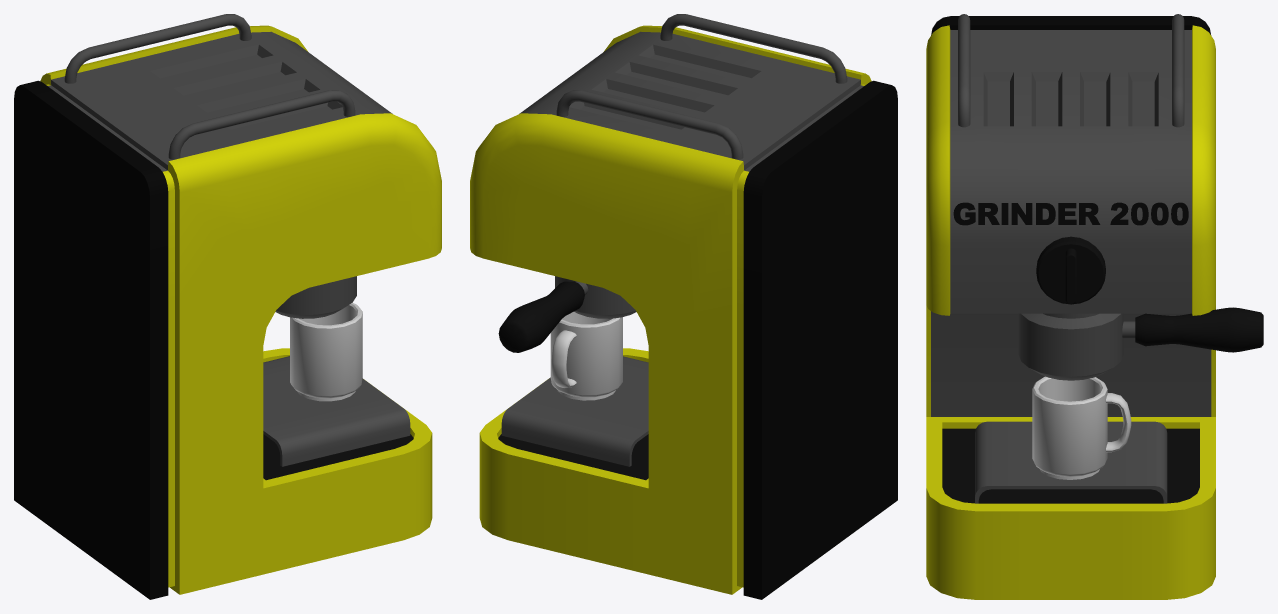
File: Coffeemachine (3).fbx
3 views of the same model, side by side, from view 1: azimuth 30°, elevation 25°; view 2: azimuth 150°, elevation 25°; view 3: azimuth 270°, elevation 25° (orthographic). The views are drawn at different scales.
Visible parts, largest first — view 1: Mesh (2); view 2: Mesh (2); view 3: Mesh (2).
Part boxes in pixels (left/top/right/bottom): Mesh (2): left=14, top=14, right=441, bottom=599; Mesh (2): left=470, top=14, right=897, bottom=599; Mesh (2): left=926, top=14, right=1263, bottom=599.
Size of the model in its own units: 30.19 by 41.13 by 27.14.
